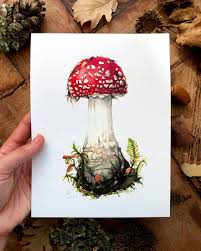Amanita muscaria: (60, 56, 141, 193)
